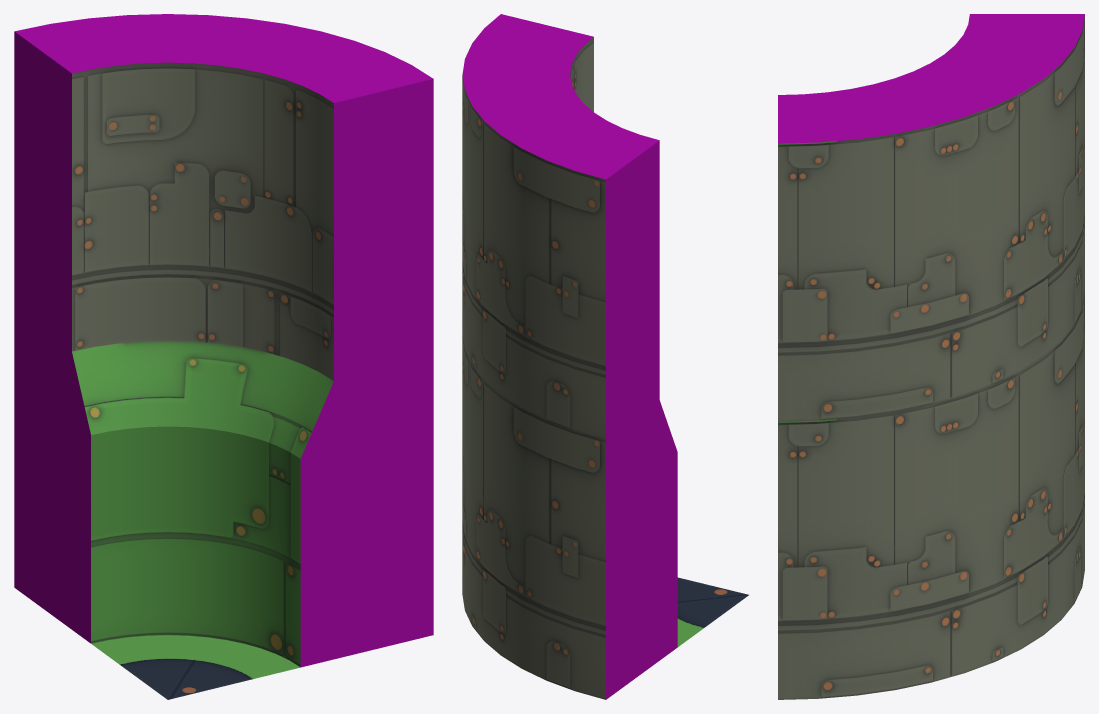
The model's file is Wall_Corner_Outside_Top.fbx.
3 views of the same model, side by side, from view 1: azimuth 30°, elevation 25°; view 2: azimuth 150°, elevation 25°; view 3: azimuth 270°, elevation 25° (orthographic). The views are drawn at different scales.
Parts seen in each view (by area): view 1: Wall_Corner_Outside_Top, Wall_Corner_Outside, Floor_Edge_Corner_Outside; view 2: Wall_Corner_Outside_Top, Wall_Corner_Outside, Floor_Edge_Corner_Outside; view 3: Wall_Corner_Outside_Top, Wall_Corner_Outside.
Part boxes in pixels (<box>): Wall_Corner_Outside_Top: <box>14,14,433,381</box>; Wall_Corner_Outside: <box>14,310,433,667</box>; Floor_Edge_Corner_Outside: <box>91,635,300,699</box>; Wall_Corner_Outside_Top: <box>462,14,659,439</box>; Wall_Corner_Outside: <box>462,335,677,699</box>; Floor_Edge_Corner_Outside: <box>677,577,748,646</box>; Wall_Corner_Outside_Top: <box>778,14,1084,421</box>; Wall_Corner_Outside: <box>778,293,1084,699</box>.
Bounding box in the file's own units: 100 × 200 × 100.
